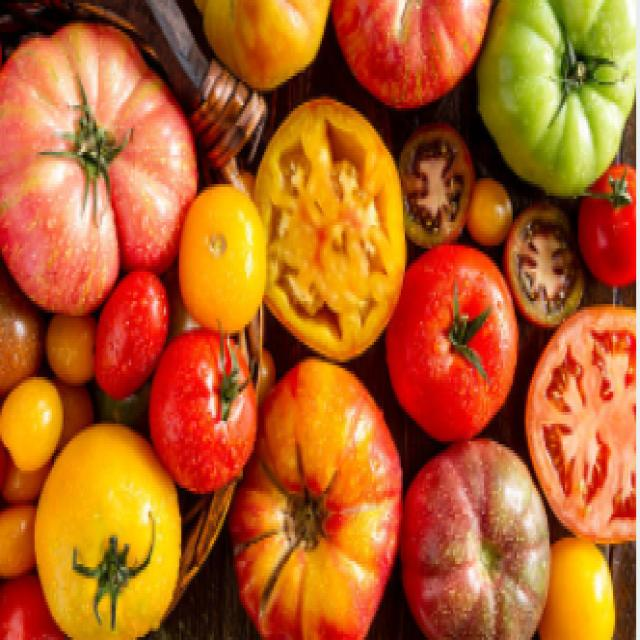Tomato: (387, 244, 521, 458), (152, 295, 260, 500)
